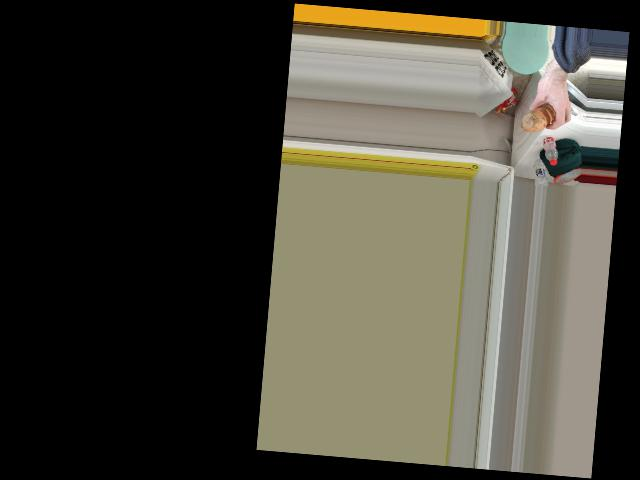sweet_potato: (521, 102, 554, 135)
